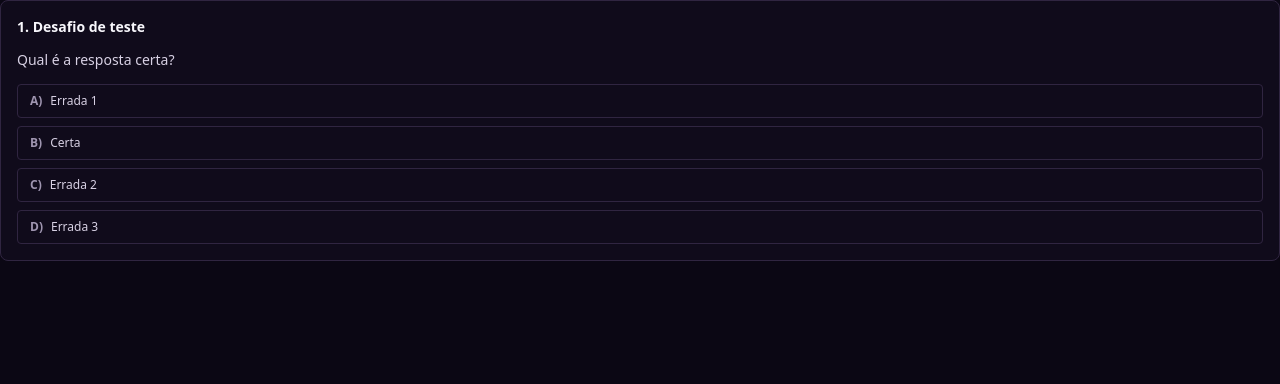
Test: ConceptChallenge — comportamento genérico (fixture isolada) › mostra feedback de erro ao selecionar uma opção incorreta
Click the button "A)Errada 1".
click(74, 100)  # box [17,84,1263,118]
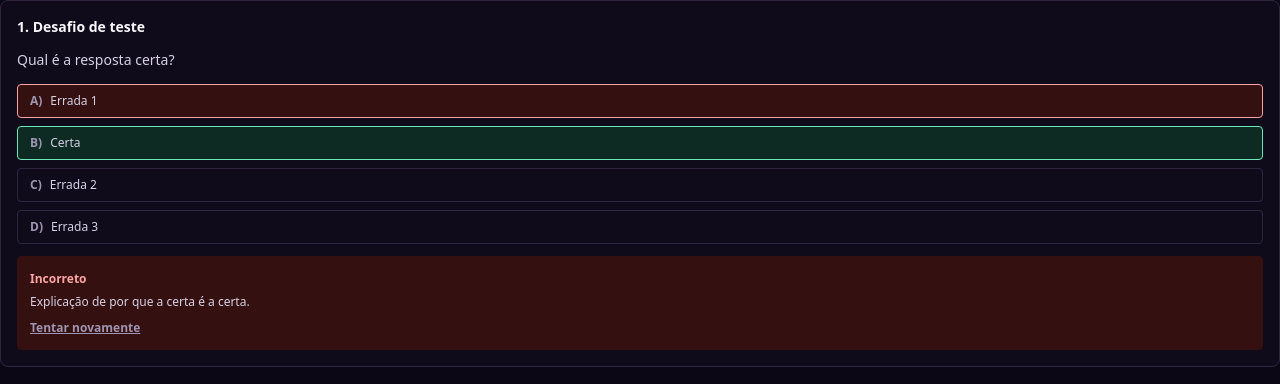
Expected: the text "Incorreto" is shown, [30,270,86,287]
